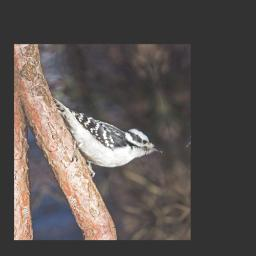Woodpecker: (52, 76, 167, 184)
